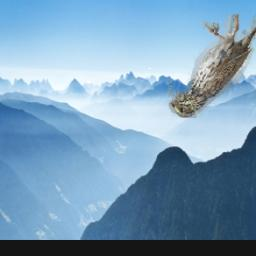Sparrow: (170, 14, 256, 118)
